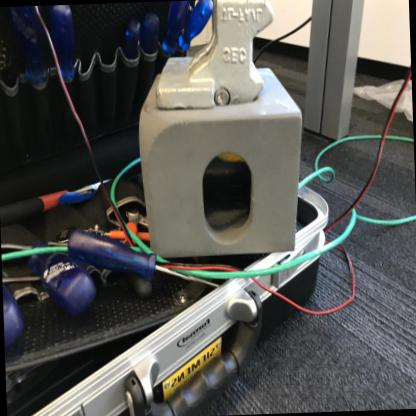CornerCasting: (134, 67, 308, 261)
Twistlock: (147, 0, 276, 110)
